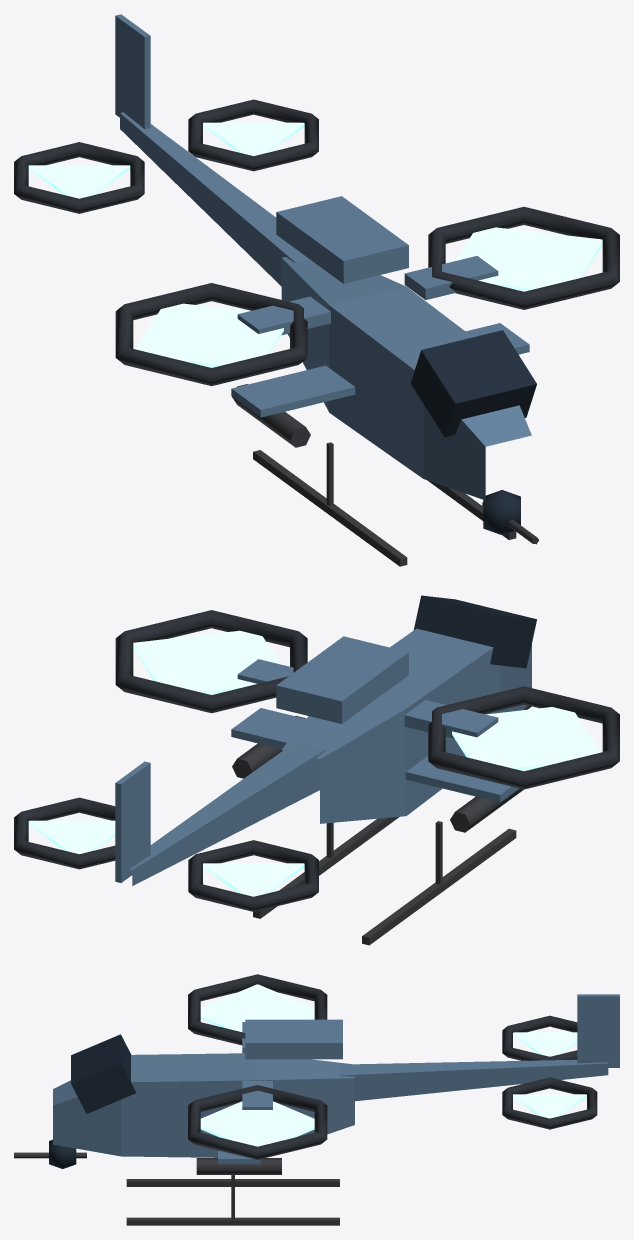
Rendered from veh_air_heli_attack_a10_lod2.glb.
The picture shows the model from 3 angles, top to bottom: view 1: azimuth 30°, elevation 25°; view 2: azimuth 150°, elevation 25°; view 3: azimuth 270°, elevation 25°; orthographic projection. The views are drawn at different scales.
Visible parts, largest first — view 1: body, rotor_r, rotor_l, rotor_aft_l, rotor_aft_r; view 2: body, rotor_r, rotor_l, rotor_aft_r, rotor_aft_l; view 3: body, rotor_l, rotor_r, rotor_aft_l, rotor_aft_r.
Part boxes in pixels (x1,y1,x2,y2): body: [115, 14, 536, 566]; rotor_r: [115, 283, 307, 386]; rotor_l: [428, 206, 619, 309]; rotor_aft_l: [188, 99, 318, 171]; rotor_aft_r: [14, 142, 144, 213]; body: [115, 595, 536, 945]; rotor_r: [428, 686, 619, 789]; rotor_l: [115, 610, 307, 713]; rotor_aft_r: [188, 840, 318, 911]; rotor_aft_l: [14, 797, 115, 869]; body: [49, 994, 619, 1225]; rotor_l: [188, 1085, 327, 1159]; rotor_r: [188, 974, 327, 1045]; rotor_aft_l: [502, 1077, 597, 1129]; rotor_aft_r: [502, 1015, 577, 1060].
Size of the model in its own units: 6.94 by 3.8 by 9.95.
